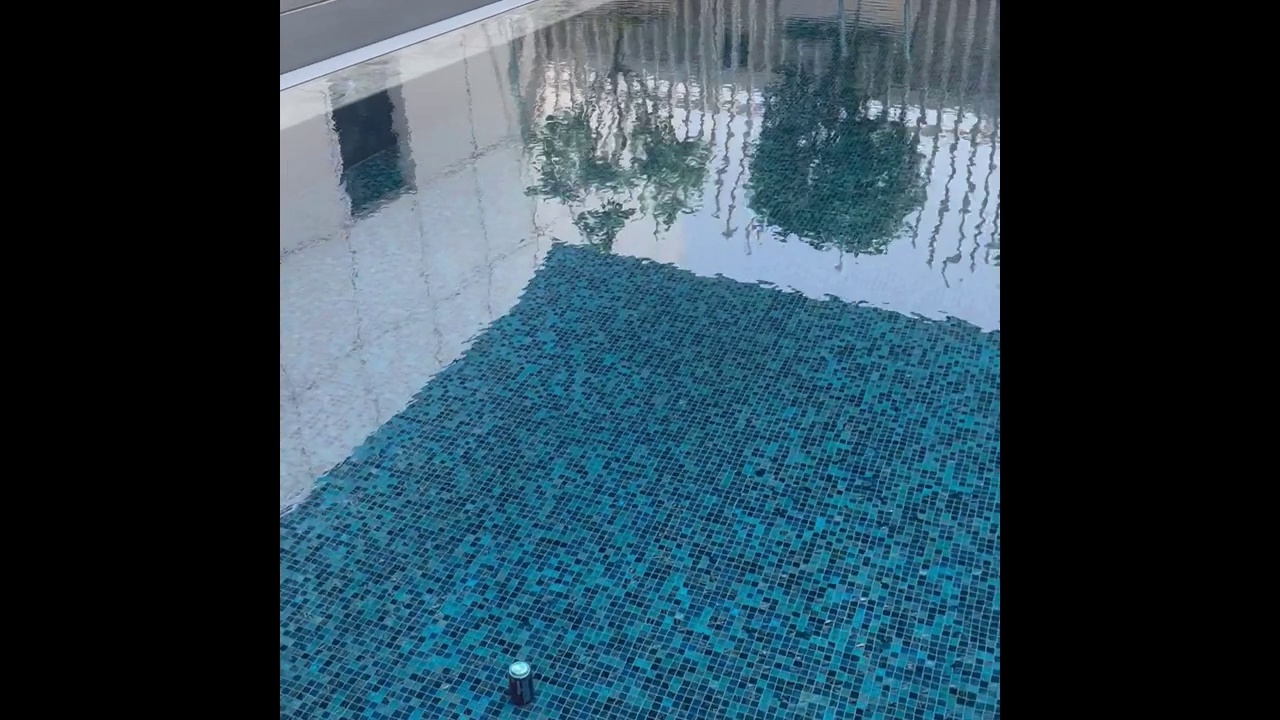debris: (502, 657, 540, 711)
